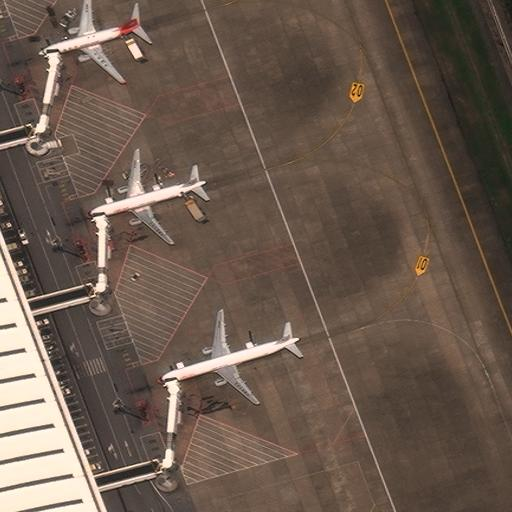Medium Civil Transport: (157, 311, 299, 404), (86, 150, 206, 244), (38, 0, 140, 83)
